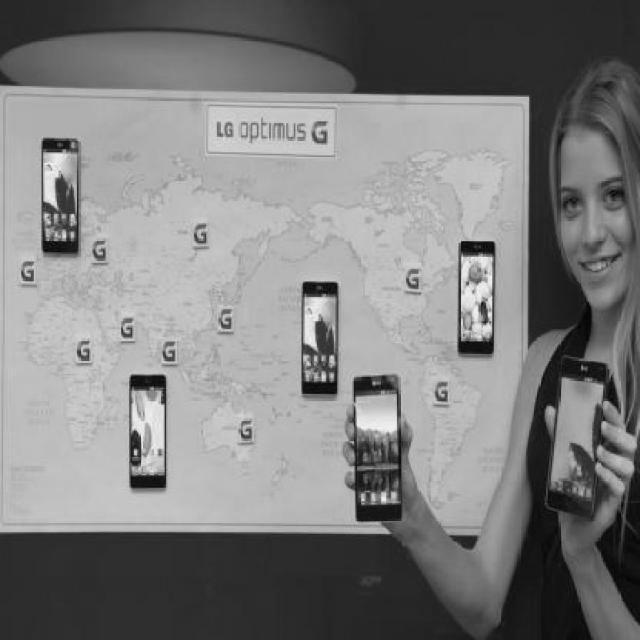fake: (544, 354, 608, 528), (351, 370, 404, 524), (128, 372, 170, 492), (40, 138, 80, 256), (299, 278, 338, 398), (457, 239, 495, 356)
